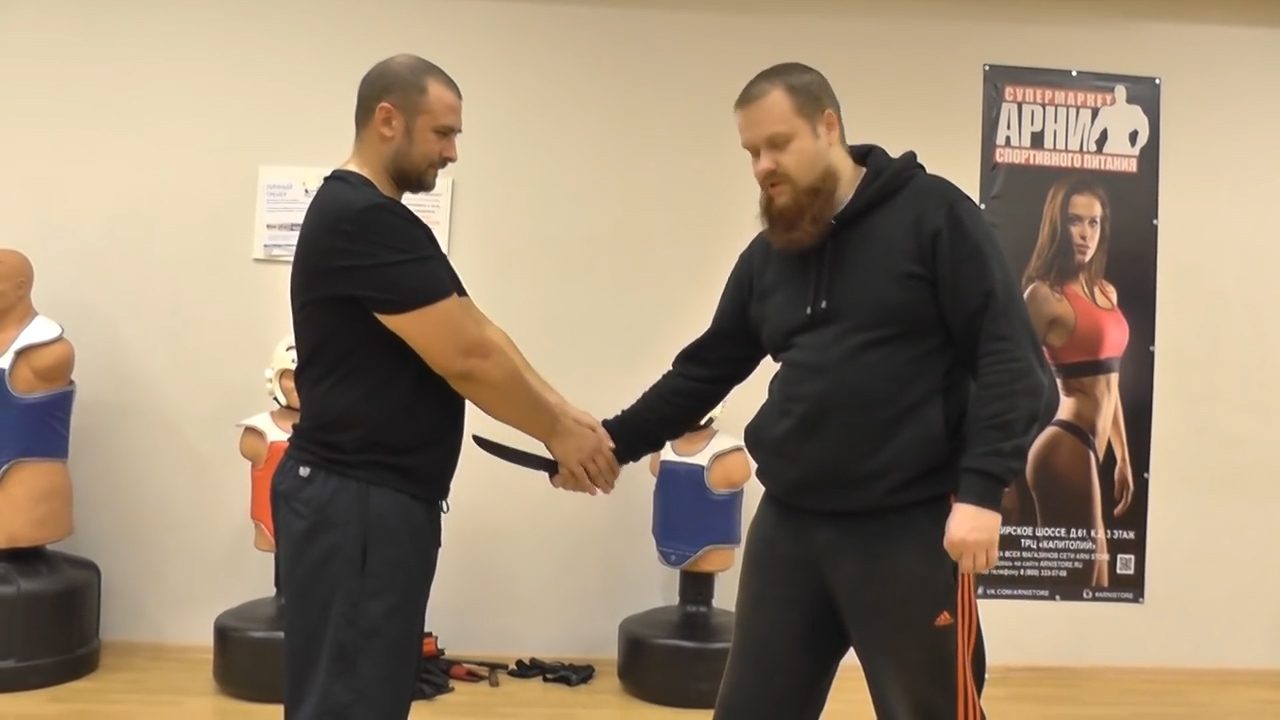knife: (469, 428, 622, 499)
